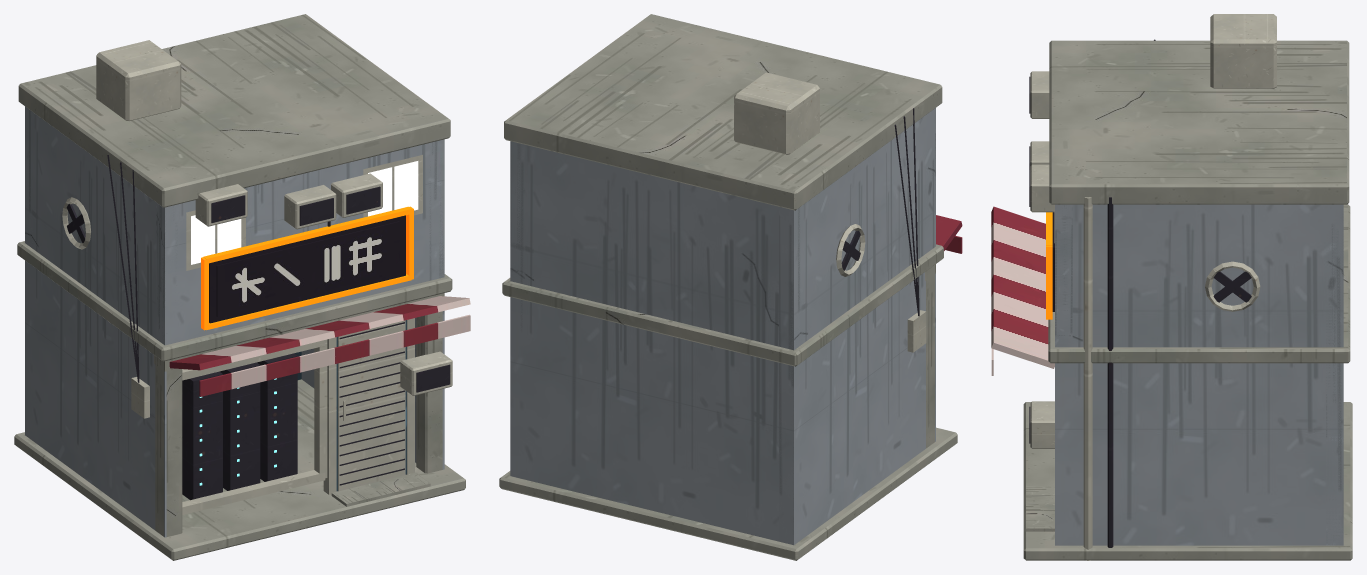
File: servico_servidores.glb
The picture shows the model from 3 angles, left to right: view 1: azimuth 30°, elevation 25°; view 2: azimuth 150°, elevation 25°; view 3: azimuth 270°, elevation 25°; orthographic projection. The views are drawn at different scales.
Visible parts, largest first — view 1: servico_servidores; view 2: servico_servidores; view 3: servico_servidores.
Part boxes in pixels (left/top/right/bottom): servico_servidores: left=14, top=14, right=470, bottom=560; servico_servidores: left=499, top=14, right=962, bottom=560; servico_servidores: left=991, top=14, right=1352, bottom=560.
Size of the model in its own units: 3.18 by 4.2 by 3.25.
5 materials, 2 textured.
